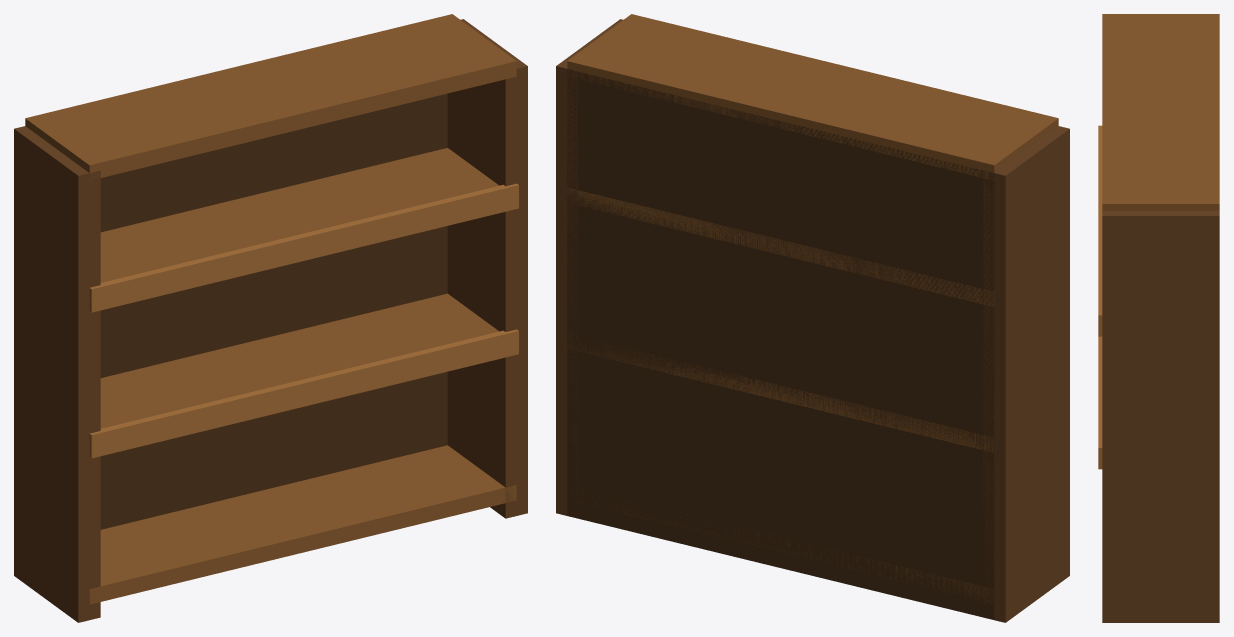
The model's file is shelf.glb.
3 views of the same model, side by side, from view 1: azimuth 30°, elevation 25°; view 2: azimuth 150°, elevation 25°; view 3: azimuth 270°, elevation 25° (orthographic). The views are drawn at different scales.
Visible parts, largest first — view 1: back, side, board.003, board, side.001, board.001, board.002, board_edge, board_edge.001; view 2: back, side, board.003, side.001, board.002, board.001, board; view 3: side.001, board.003, board_edge.001, board_edge.
Part boxes in pixels (x1,y1,x2,y2): back: (100, 93, 447, 529); side: (14, 126, 100, 622); board.003: (25, 14, 516, 180); board: (89, 445, 516, 604); side.001: (447, 19, 527, 518); board.001: (100, 293, 499, 428); board.002: (100, 148, 498, 282); board_edge: (89, 329, 518, 458); board_edge.001: (89, 183, 518, 312); back: (567, 69, 994, 619); side: (983, 126, 1069, 622); board.003: (567, 14, 1058, 180); side.001: (556, 19, 623, 515); board.002: (567, 188, 994, 306); board.001: (567, 334, 994, 452); board: (571, 490, 993, 603); side.001: (1102, 211, 1219, 622); board.003: (1102, 14, 1219, 210); board_edge.001: (1098, 125, 1102, 336); board_edge: (1098, 336, 1102, 469).
Bounding box in the file's own units: 2.42 × 2.34 × 0.62.
